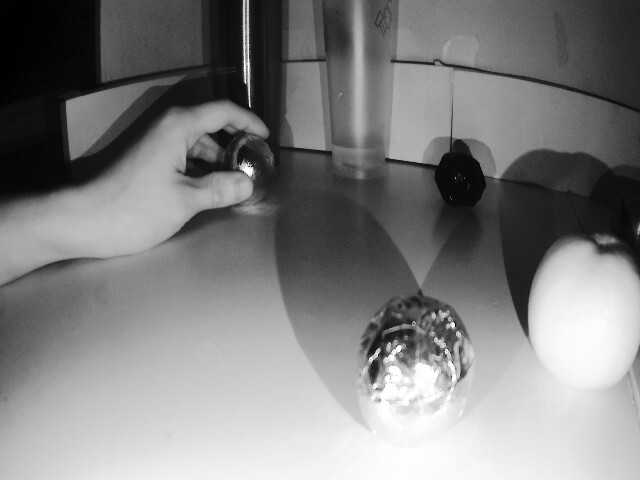black: (357, 300, 477, 433), (223, 130, 270, 205)
silver: (436, 144, 489, 219)
